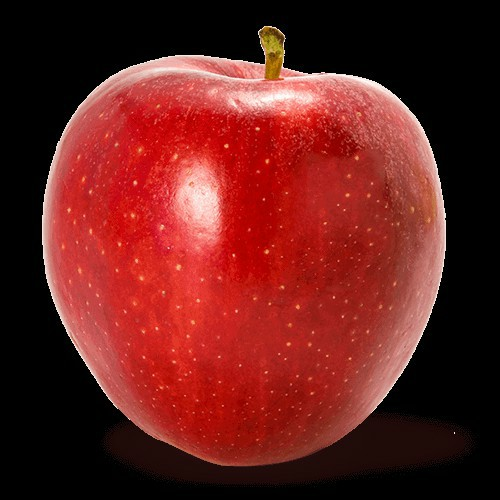fresh_apple: (44, 50, 444, 464)
